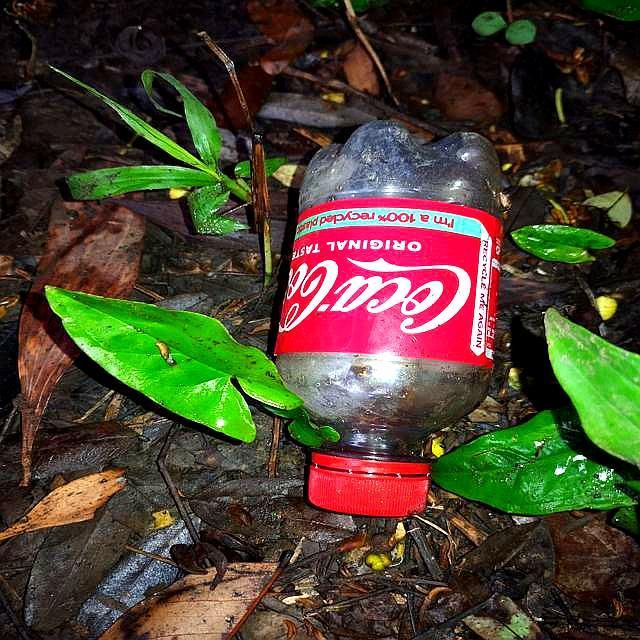Non-biodegradable: (275, 117, 501, 523)
